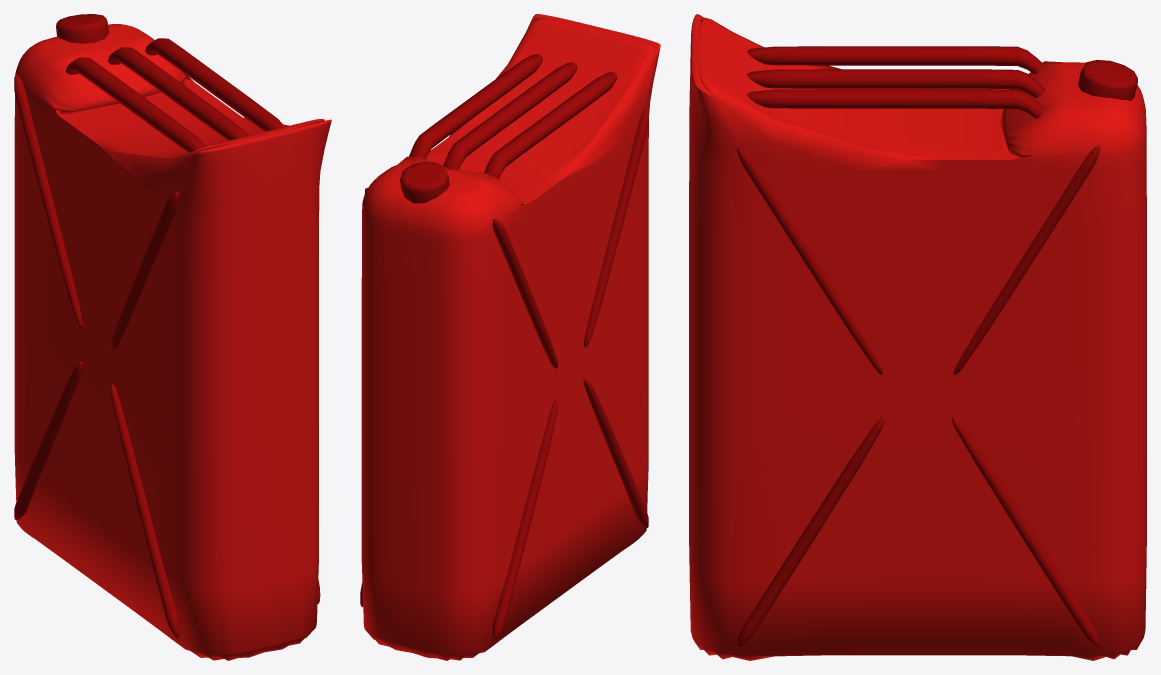
Rendered from Fuel.fbx.
The picture shows the model from 3 angles, left to right: view 1: azimuth 30°, elevation 25°; view 2: azimuth 150°, elevation 25°; view 3: azimuth 270°, elevation 25°; orthographic projection. The views are drawn at different scales.
Visible parts, largest first — view 1: Fuel; view 2: Fuel; view 3: Fuel.
Part boxes in pixels (x1,y1,x2,y2): Fuel: (14,14,331,660); Fuel: (360,14,660,660); Fuel: (689,14,1146,660).
Size of the model in its own units: 25.68 by 83.48 by 59.63.
